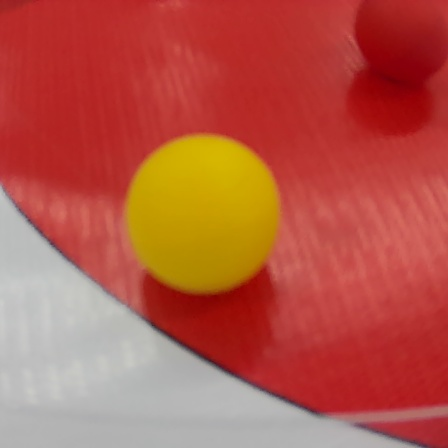red: (354, 1, 448, 82)
red_base: (1, 1, 448, 448)
yellow: (125, 130, 279, 295)
